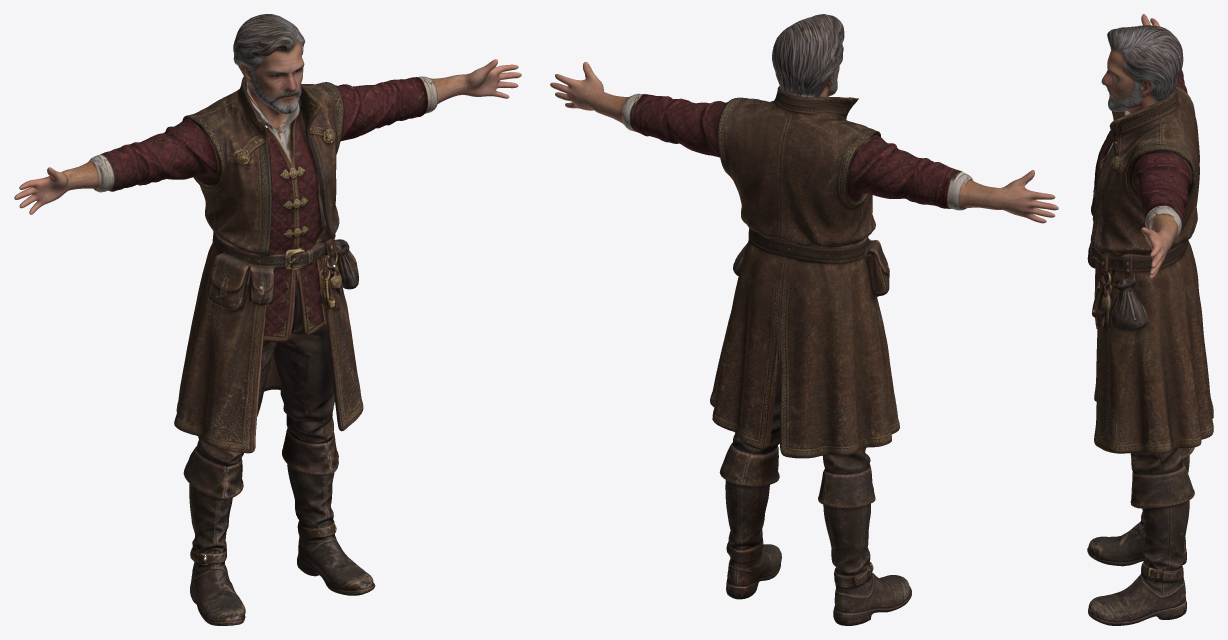
The model's file is medieval fantasy character 3d model.glb.
The picture shows the model from 3 angles, left to right: view 1: azimuth 30°, elevation 25°; view 2: azimuth 150°, elevation 25°; view 3: azimuth 270°, elevation 25°; orthographic projection. The views are drawn at different scales.
Visible parts, largest first — view 1: tripo_node_28cefe10; view 2: tripo_node_28cefe10; view 3: tripo_node_28cefe10.
Boxes of the visible parts, <box> form: tripo_node_28cefe10: <box>14,14,521,625</box>; tripo_node_28cefe10: <box>550,14,1058,625</box>; tripo_node_28cefe10: <box>1087,14,1213,625</box>.
Bounding box in the file's own units: 90.14 × 97.92 × 20.01.
1 material, 1 textured.
